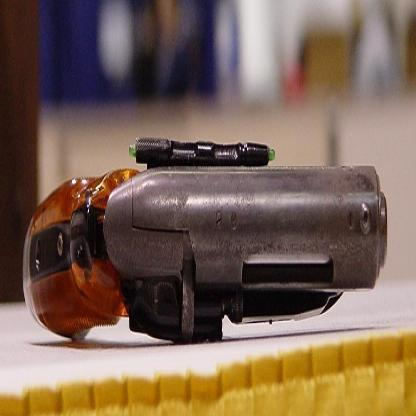Pistol: (21, 133, 388, 340)
